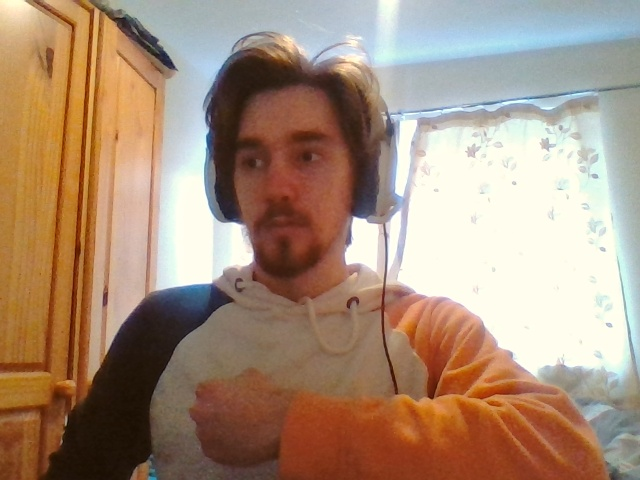morning: (189, 367, 277, 462)
